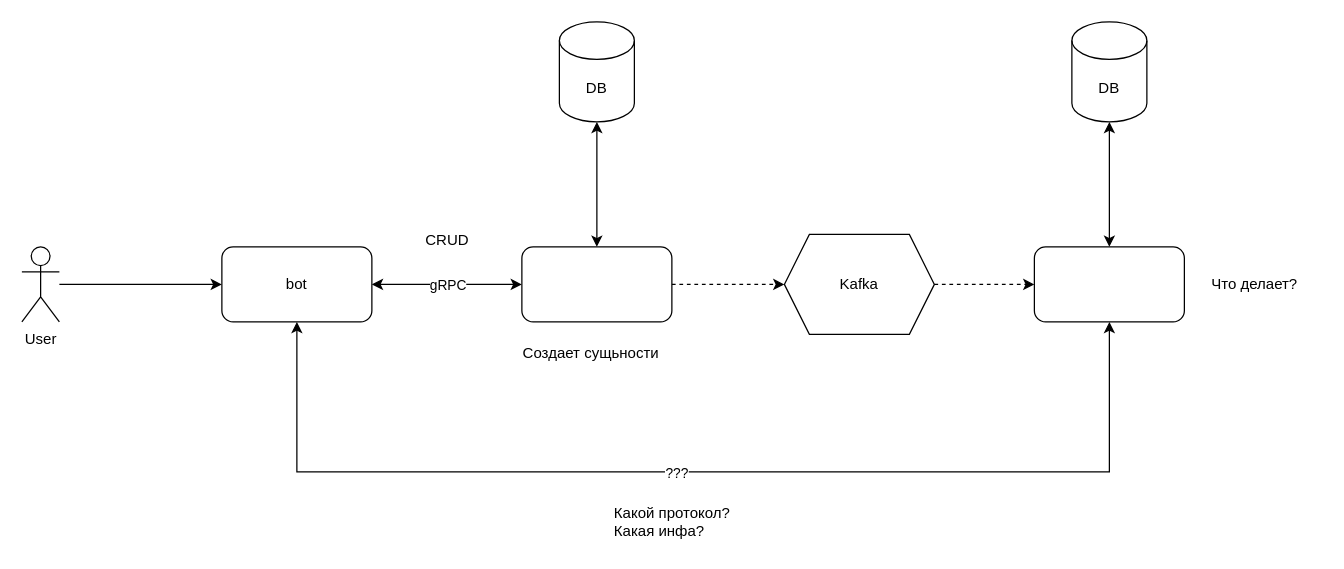
Some shapes in this 1344 by 569 pixel diagram are drawn without their labels. Here are the shapes that lost their labels. From the top down, the box of each, then its label:
(521, 246, 672, 322): {subdomain}-api
(1033, 246, 1184, 322): {subdomain}-fasade
